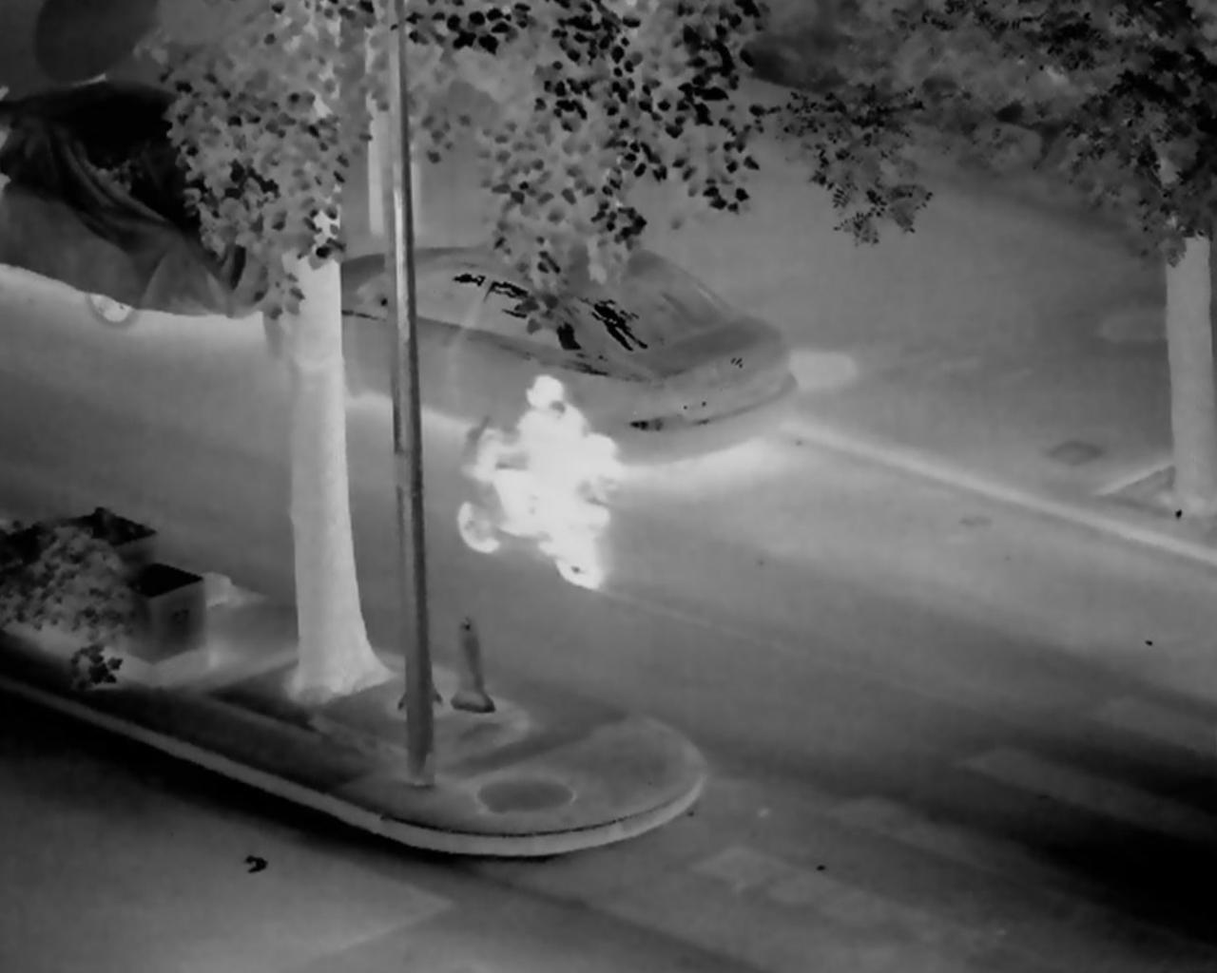person: (499, 366, 608, 570)
